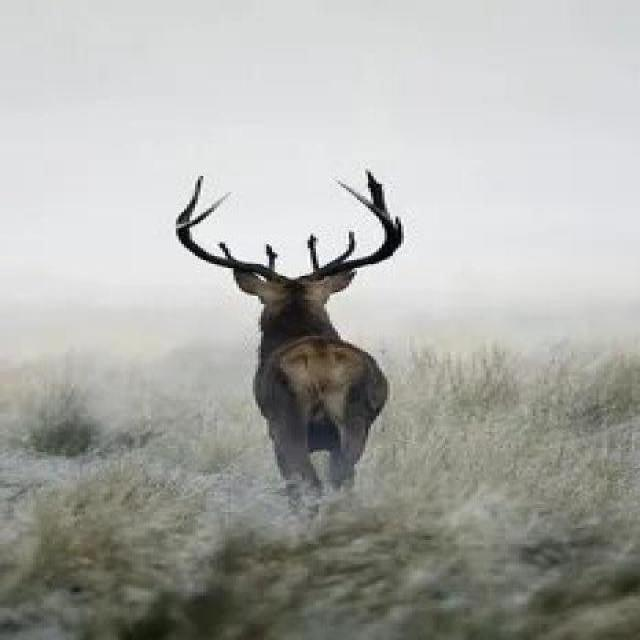deer: (99, 149, 530, 543)
